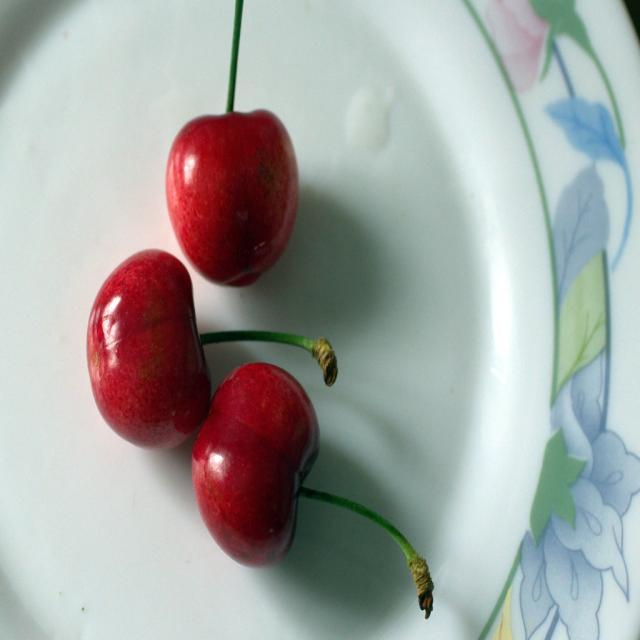Healty Apple: (78, 246, 212, 464)
